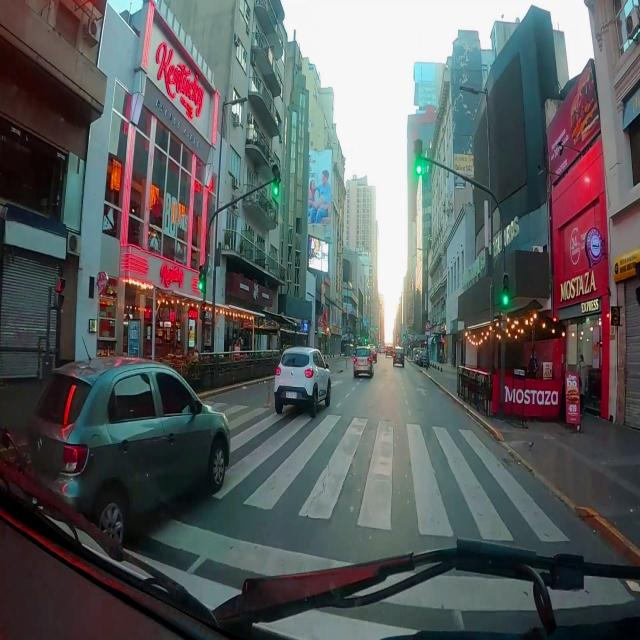car: (27, 358, 230, 541), (274, 347, 330, 417), (353, 347, 373, 377), (393, 347, 404, 367), (385, 346, 394, 357), (372, 347, 378, 363)
